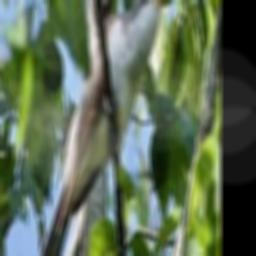Cuckoo: (21, 0, 169, 256)
